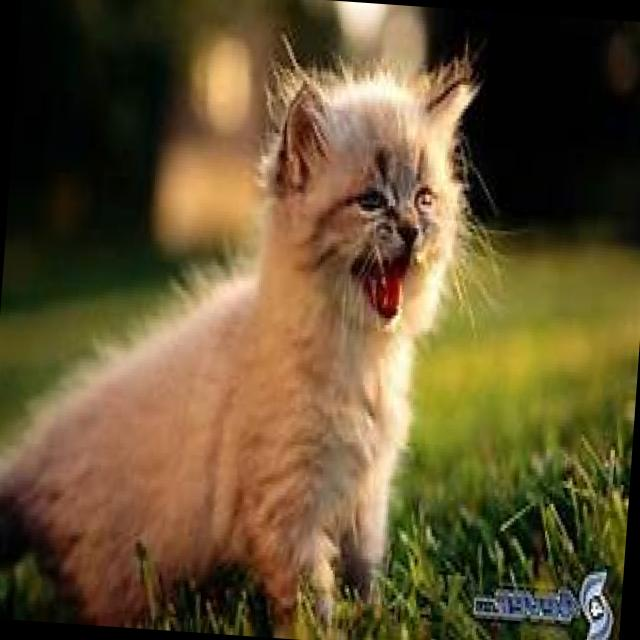animal: (0, 15, 523, 640)
